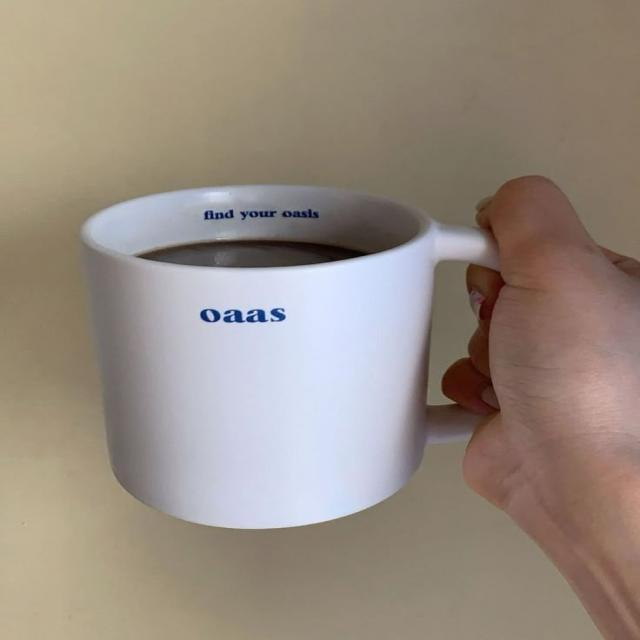glass cup: (80, 185, 503, 530)
